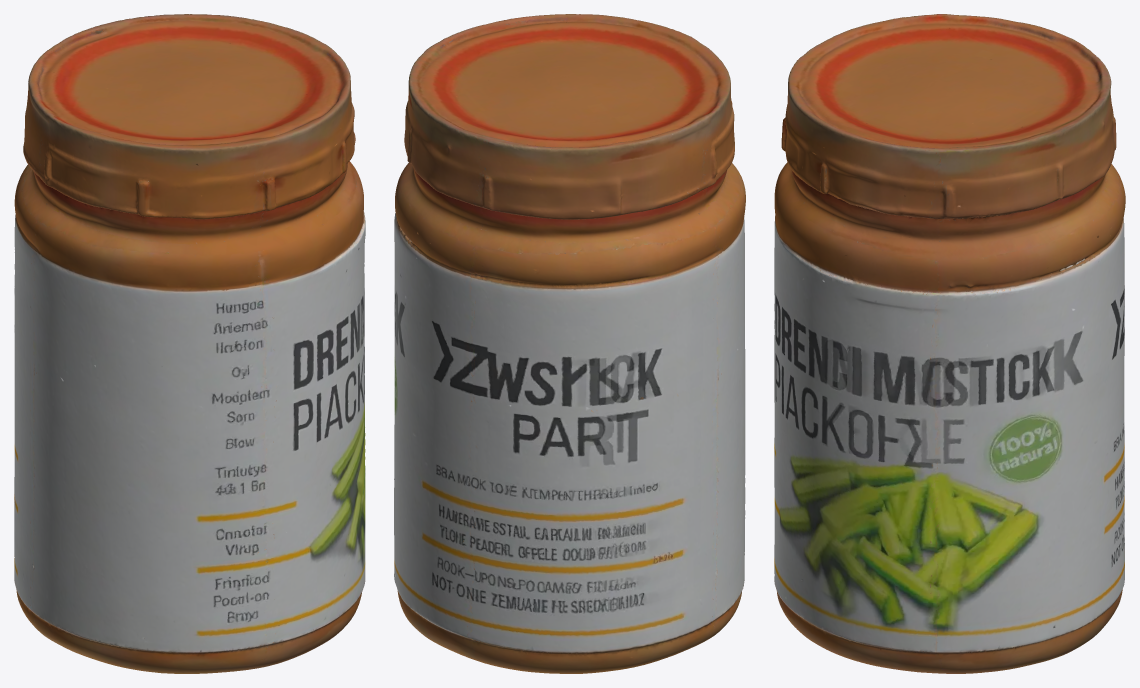
File: drumstick-compressed.glb
3 renders of one model, left to right at view 1: azimuth 30°, elevation 25°; view 2: azimuth 150°, elevation 25°; view 3: azimuth 270°, elevation 25°, orthographic.
Visible parts, largest first — view 1: mesh_0; view 2: mesh_0; view 3: mesh_0.
Part boxes in pixels (x1,y1,x2,y2): mesh_0: (14,14,365,673); mesh_0: (394,14,745,673); mesh_0: (774,14,1125,673).
Size of the model in its own units: 1.2 by 2 by 1.2.
Materials: 1 (1 with a texture image).
